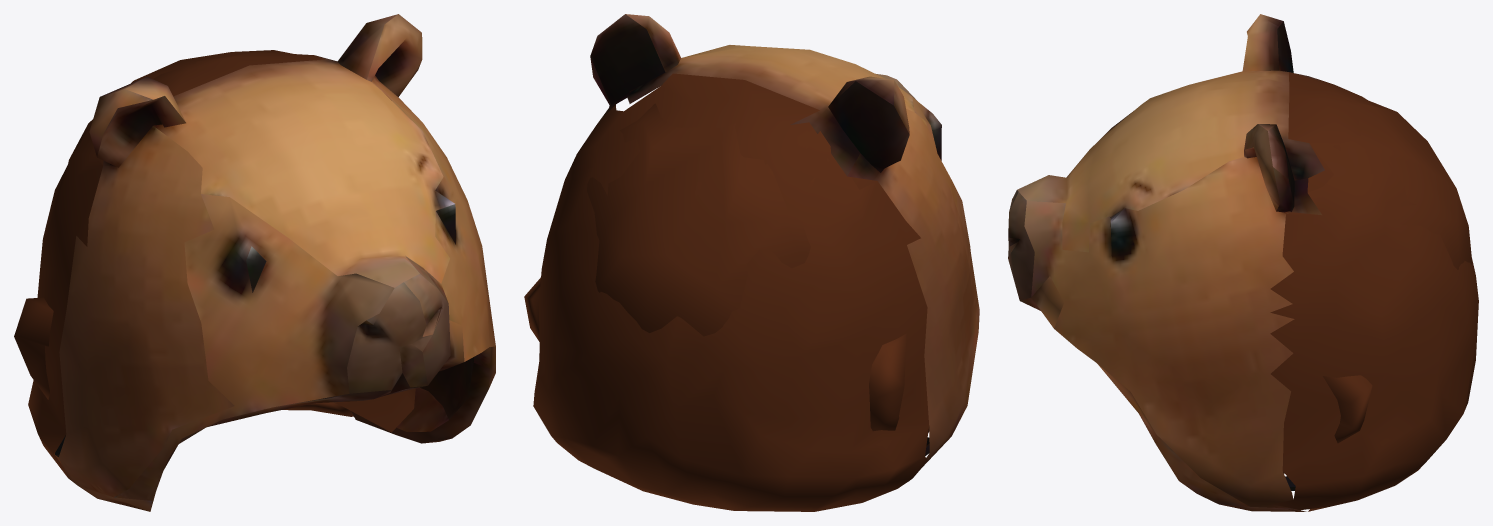
The model's file is capybara.glb.
3 renders of one model, left to right at view 1: azimuth 30°, elevation 25°; view 2: azimuth 150°, elevation 25°; view 3: azimuth 270°, elevation 25°, orthographic. The views are drawn at different scales.
Visible parts, largest first — view 1: geometry_0, HoodAnatomicalLining; view 2: geometry_0, HoodAnatomicalLining; view 3: geometry_0, HoodAnatomicalLining.
Part boxes in pixels (box(x1,y1,x2,y2)): geometry_0: box(28, 14, 495, 511); HoodAnatomicalLining: box(14, 50, 415, 432); geometry_0: box(533, 14, 979, 511); HoodAnatomicalLining: box(524, 103, 906, 431); geometry_0: box(1008, 14, 1478, 511); HoodAnatomicalLining: box(1283, 100, 1472, 473).
Size of the model in its own units: 0.4602 by 0.4675 by 0.5277.
Materials: 2 (1 with a texture image).
